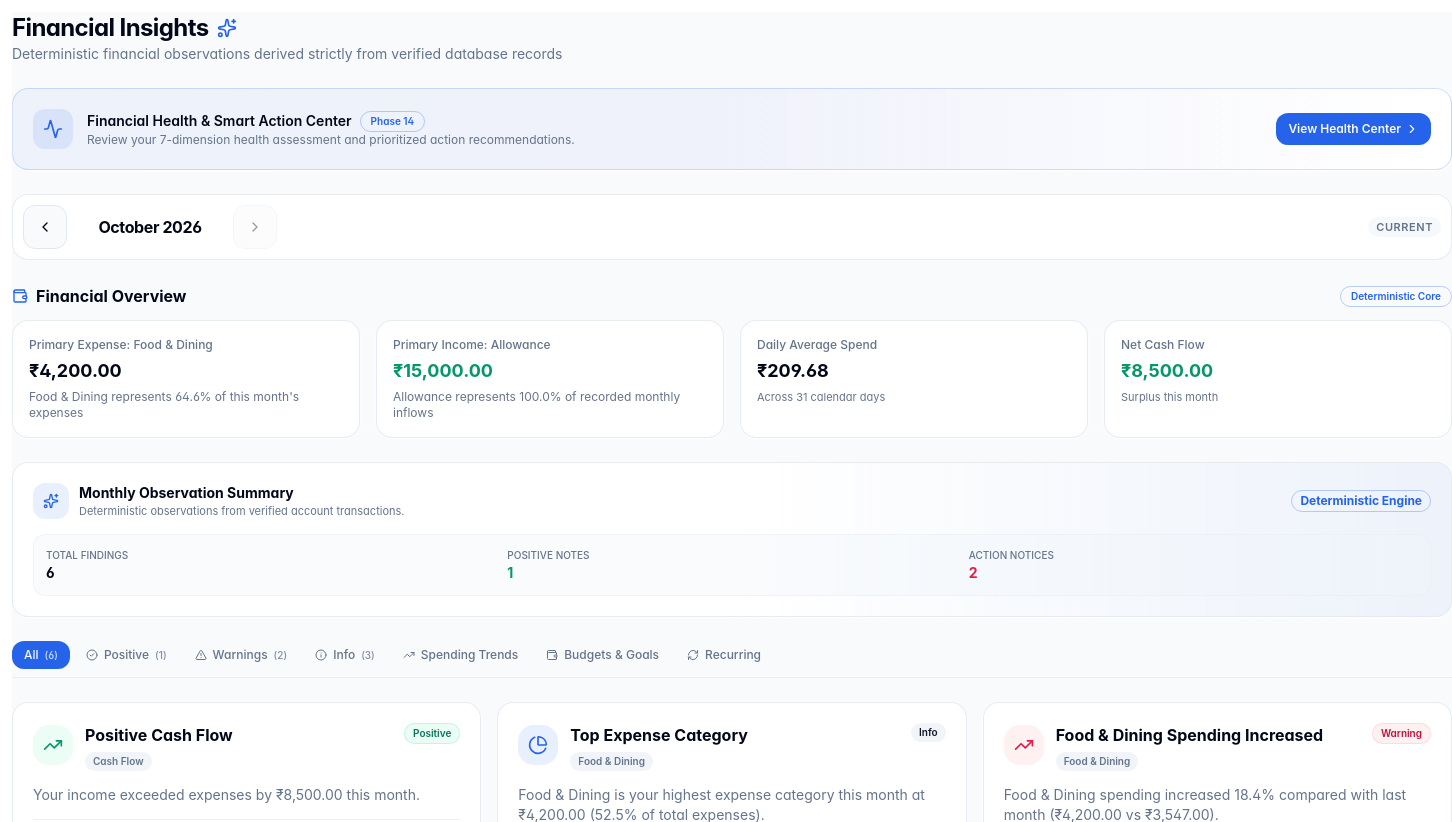
Test: Phase 6 — Advanced Financial Insights Frontend › InsightsPage Component › filters insights correctly by priority tabs
Expected: the heading "Positive Cash Flow" is shown, [85,722,233,746]
# Click on "Warnings" tab
Click the button "Warnings (2)" at (241, 654), box [183,640,299,668]
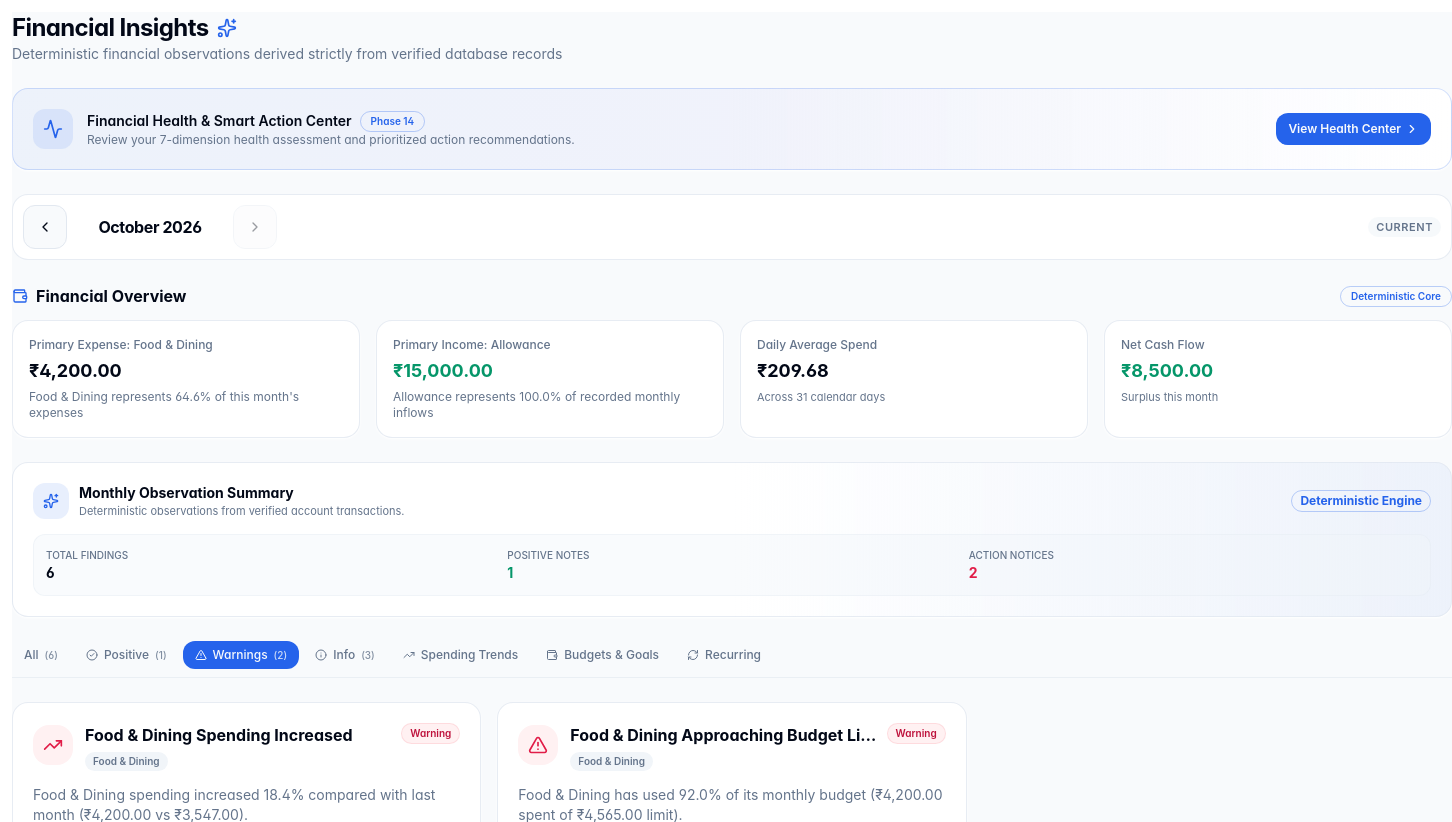
Expected: the heading "Food & Dining Spending Increased" is shown, [85,722,352,746]
Expected: the heading "Positive Cash Flow" is gone
# Click on "Positive" tab
Click the button "Positive (1)" at (126, 654), box [74,640,179,668]
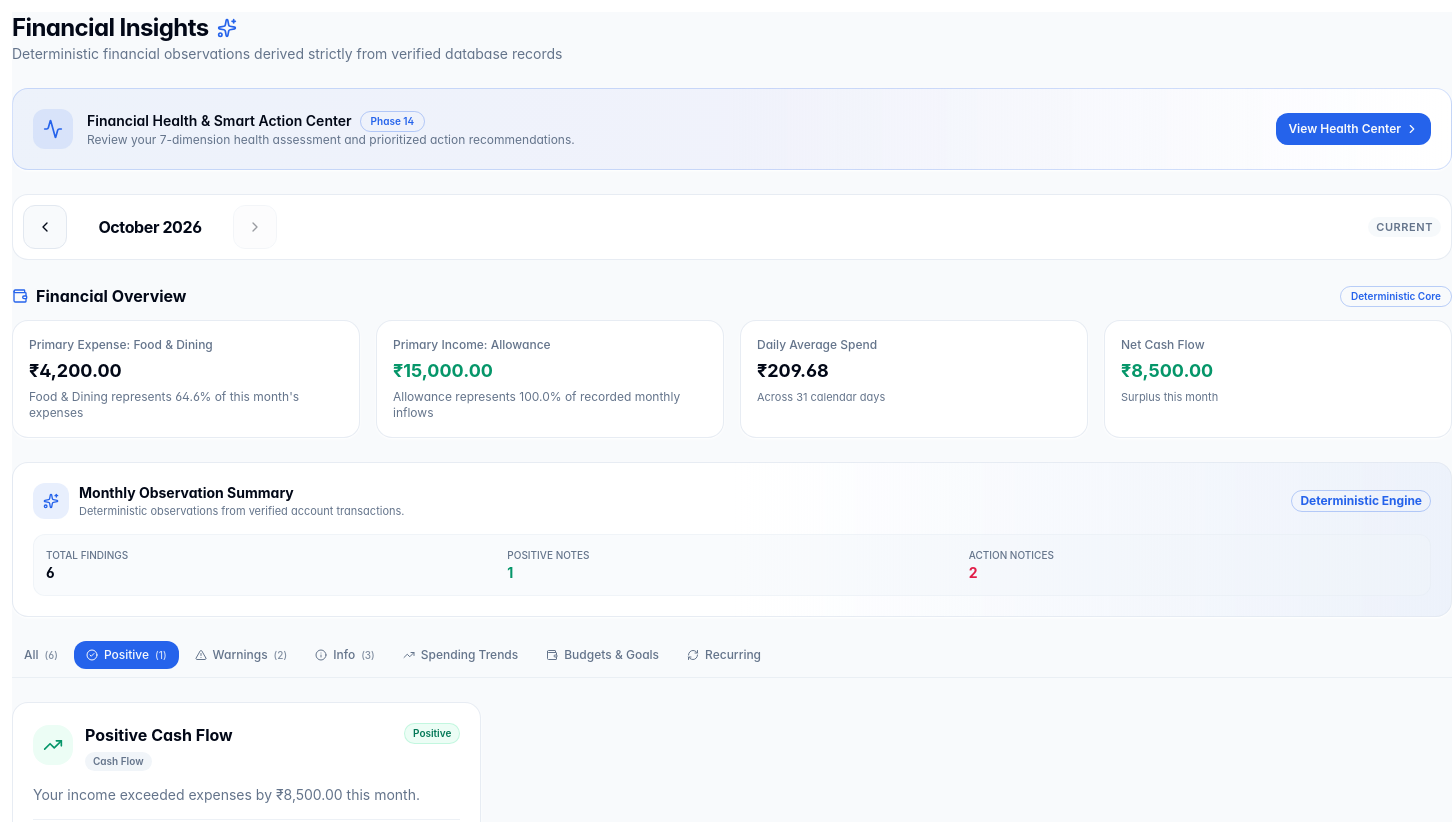
Expected: the heading "Positive Cash Flow" is shown, [85,722,233,746]
Expected: the heading "Food & Dining Spending Increased" is gone
# Click back on "All"
Click the button "All (6)" at (41, 654), box [12,640,70,668]
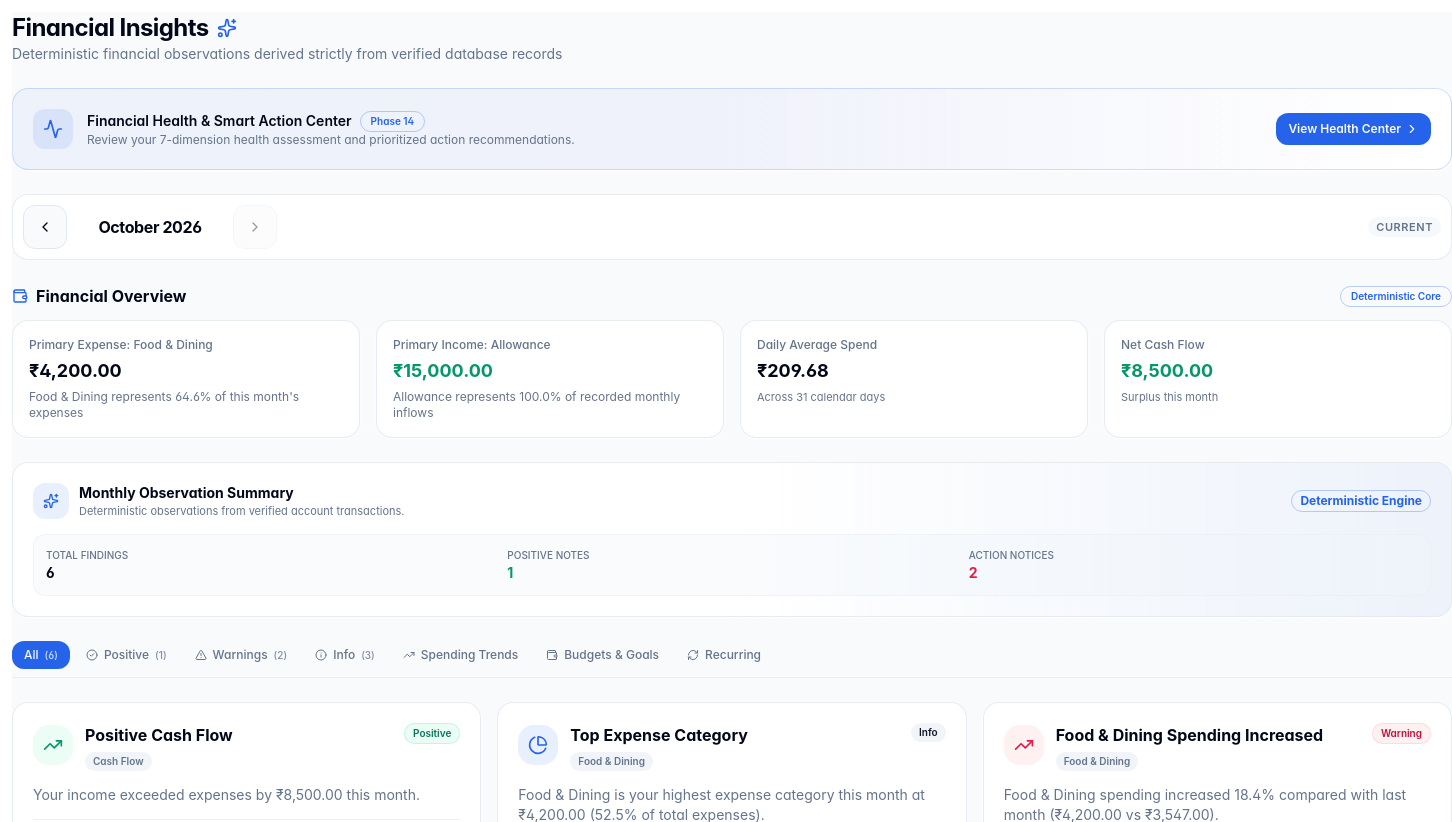
Expected: the heading "Positive Cash Flow" is shown, [85,722,233,746]
Expected: the heading "Food & Dining Spending Increased" is shown, [1056,722,1323,746]
